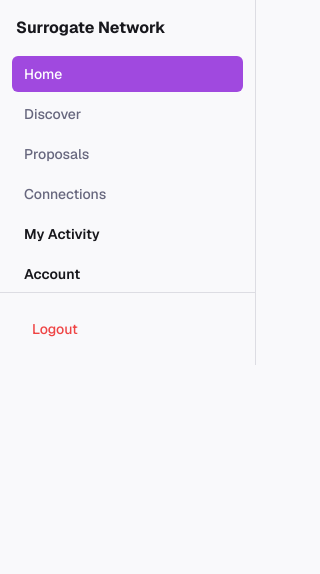
Test case: MemberNavigation › renders each desktop destination once without a duplicate General group
Step 1. Click the button "My Activity" → (128, 234), box [12, 216, 243, 252]
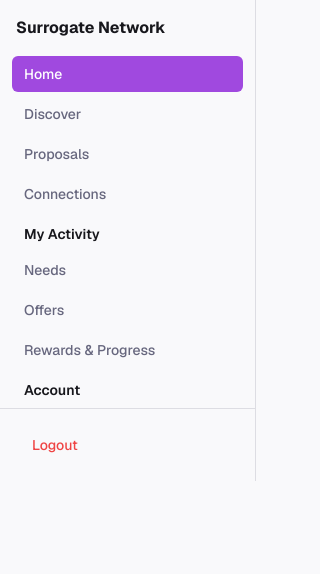
Step 2. Click the button "Account" → (128, 390), box [12, 372, 243, 408]
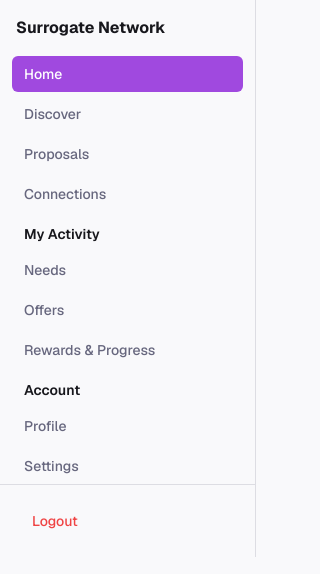
Expected: the number of links "Rewards & Progress" is 1, [24, 341, 155, 359]
Expected: the number of links "Settings" is 1, [24, 457, 79, 475]
Expected: the number of links to "/settings" is 1, [24, 457, 79, 475]
